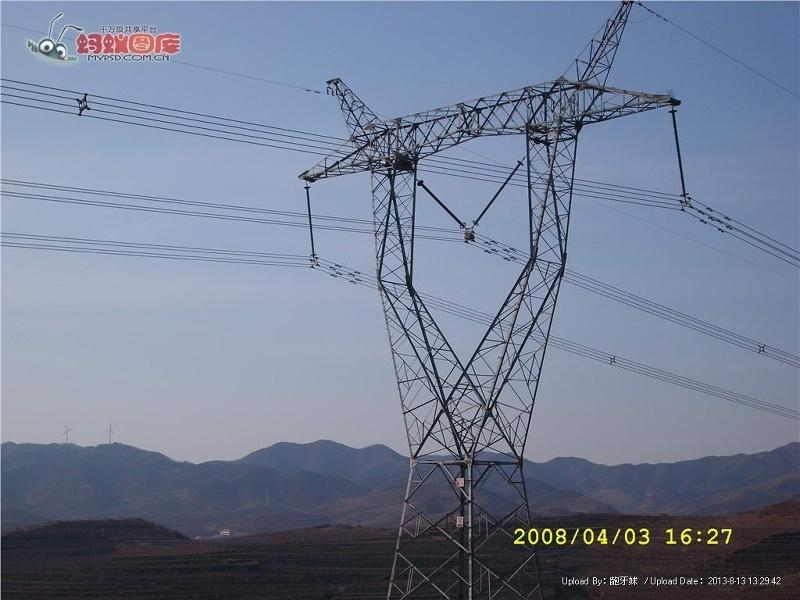power_tower: (274, 12, 699, 590)
